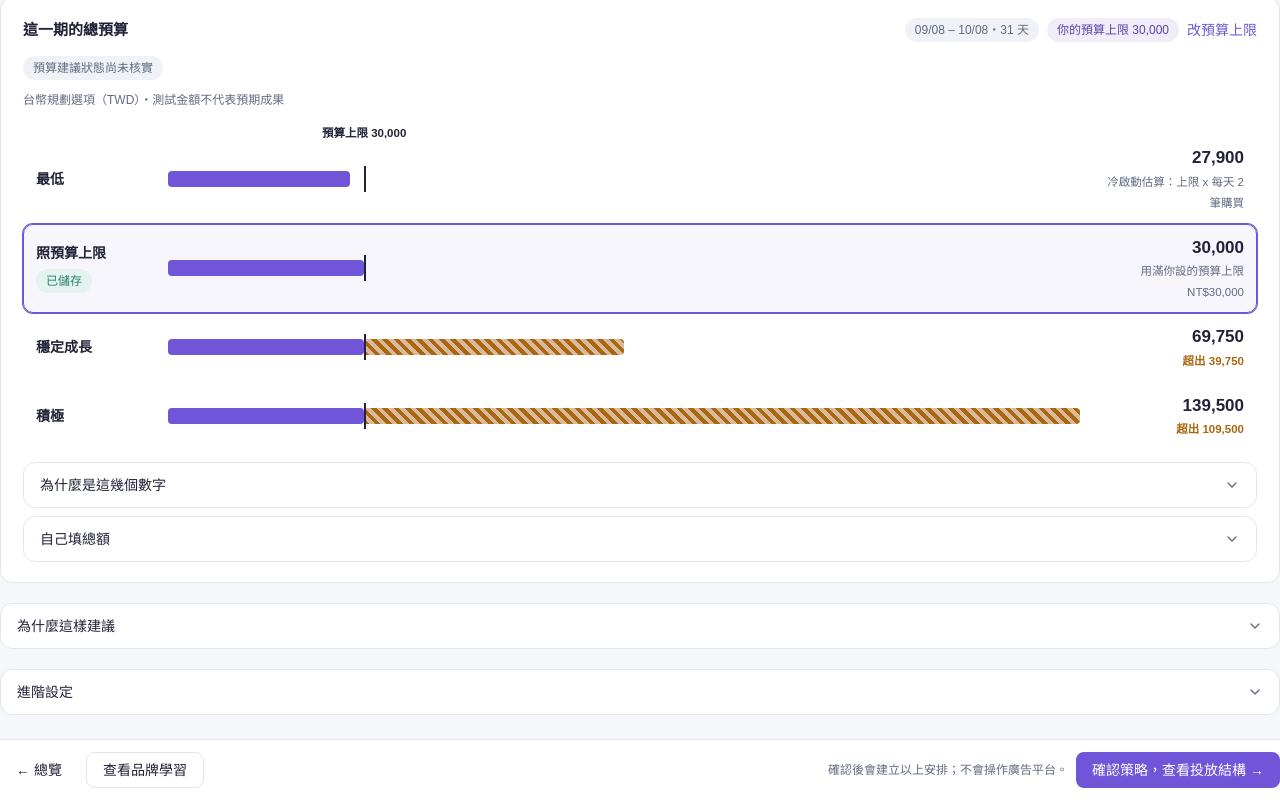
StrategyTab (F28-I09) › 維持 closes the sheet without saving anything
The width and height of the screenshot is (1280, 800).
(page scrolled)
Click the radio button labelled "積極 139,500 超出 109,500" at [640, 416], box [23, 382, 1257, 450]
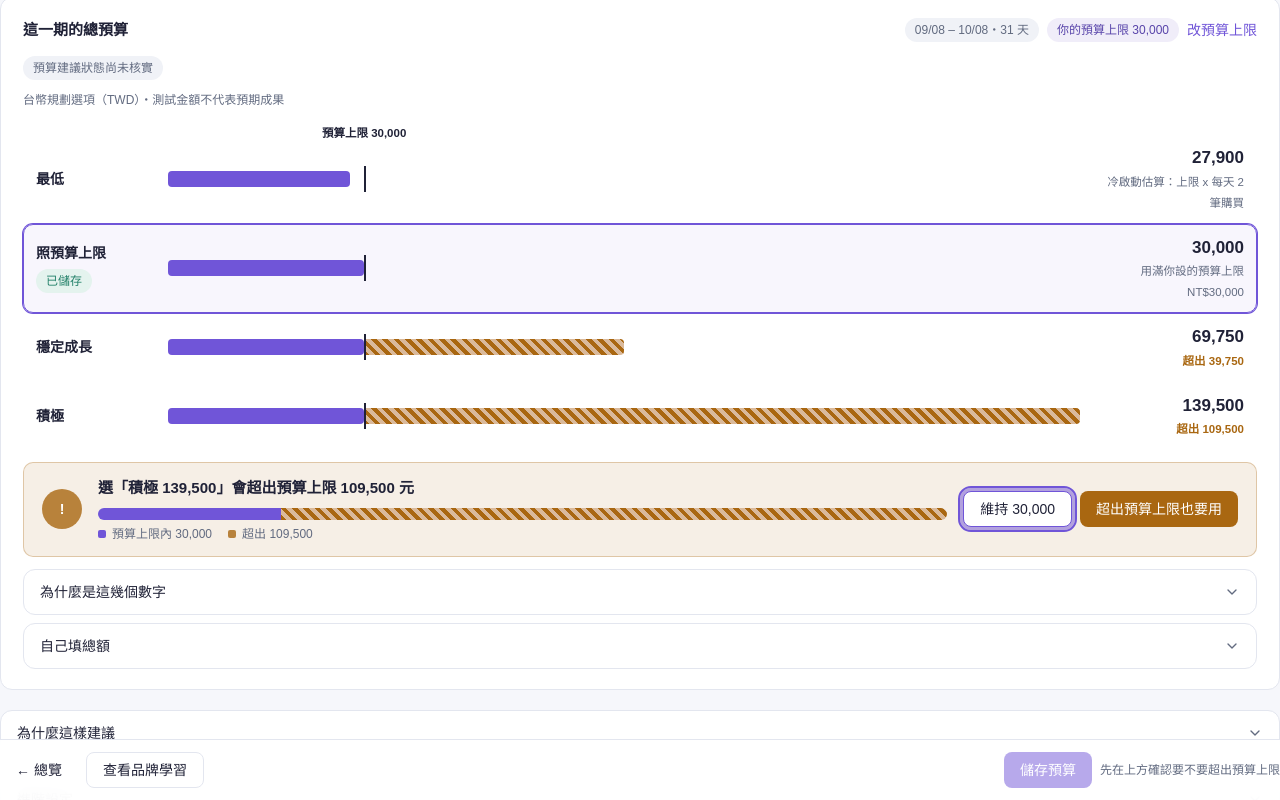
Click the button "維持 30,000" at [1018, 509], box [963, 491, 1072, 527]
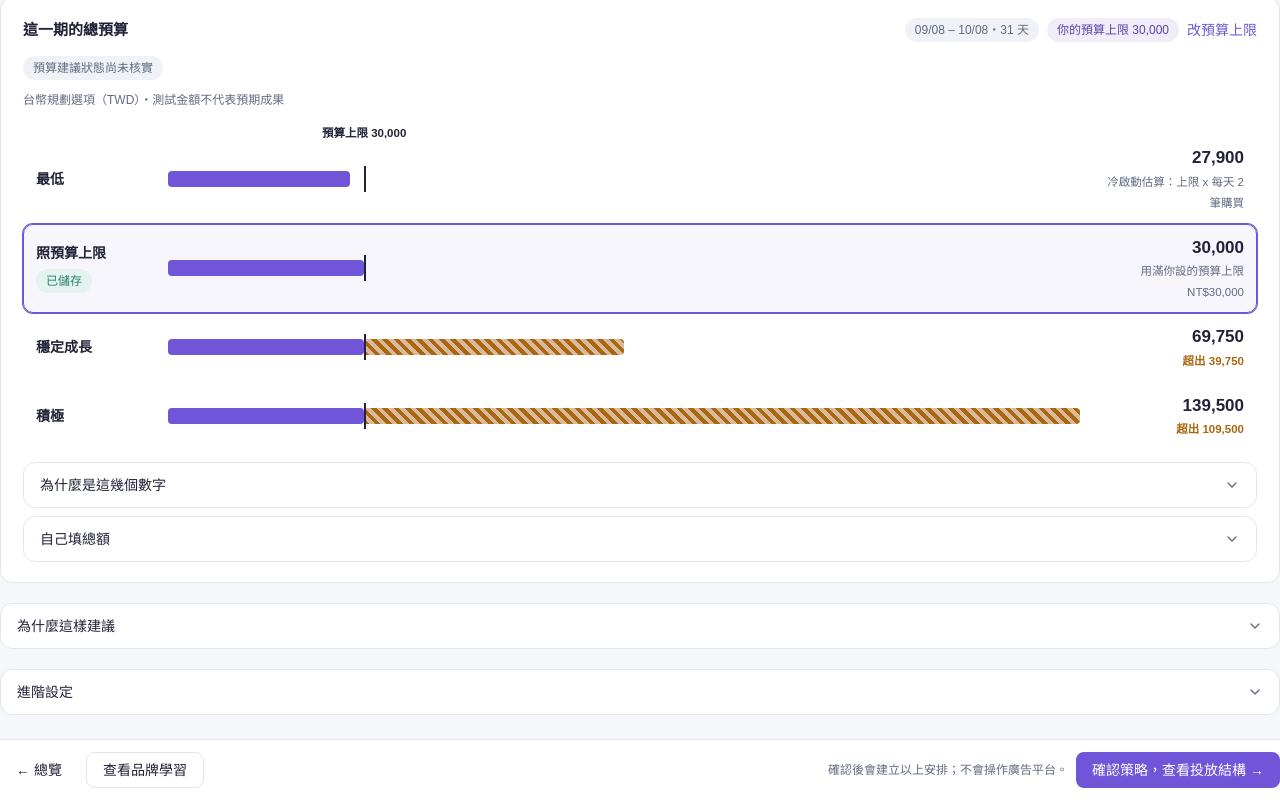
Check: the dialog is gone
